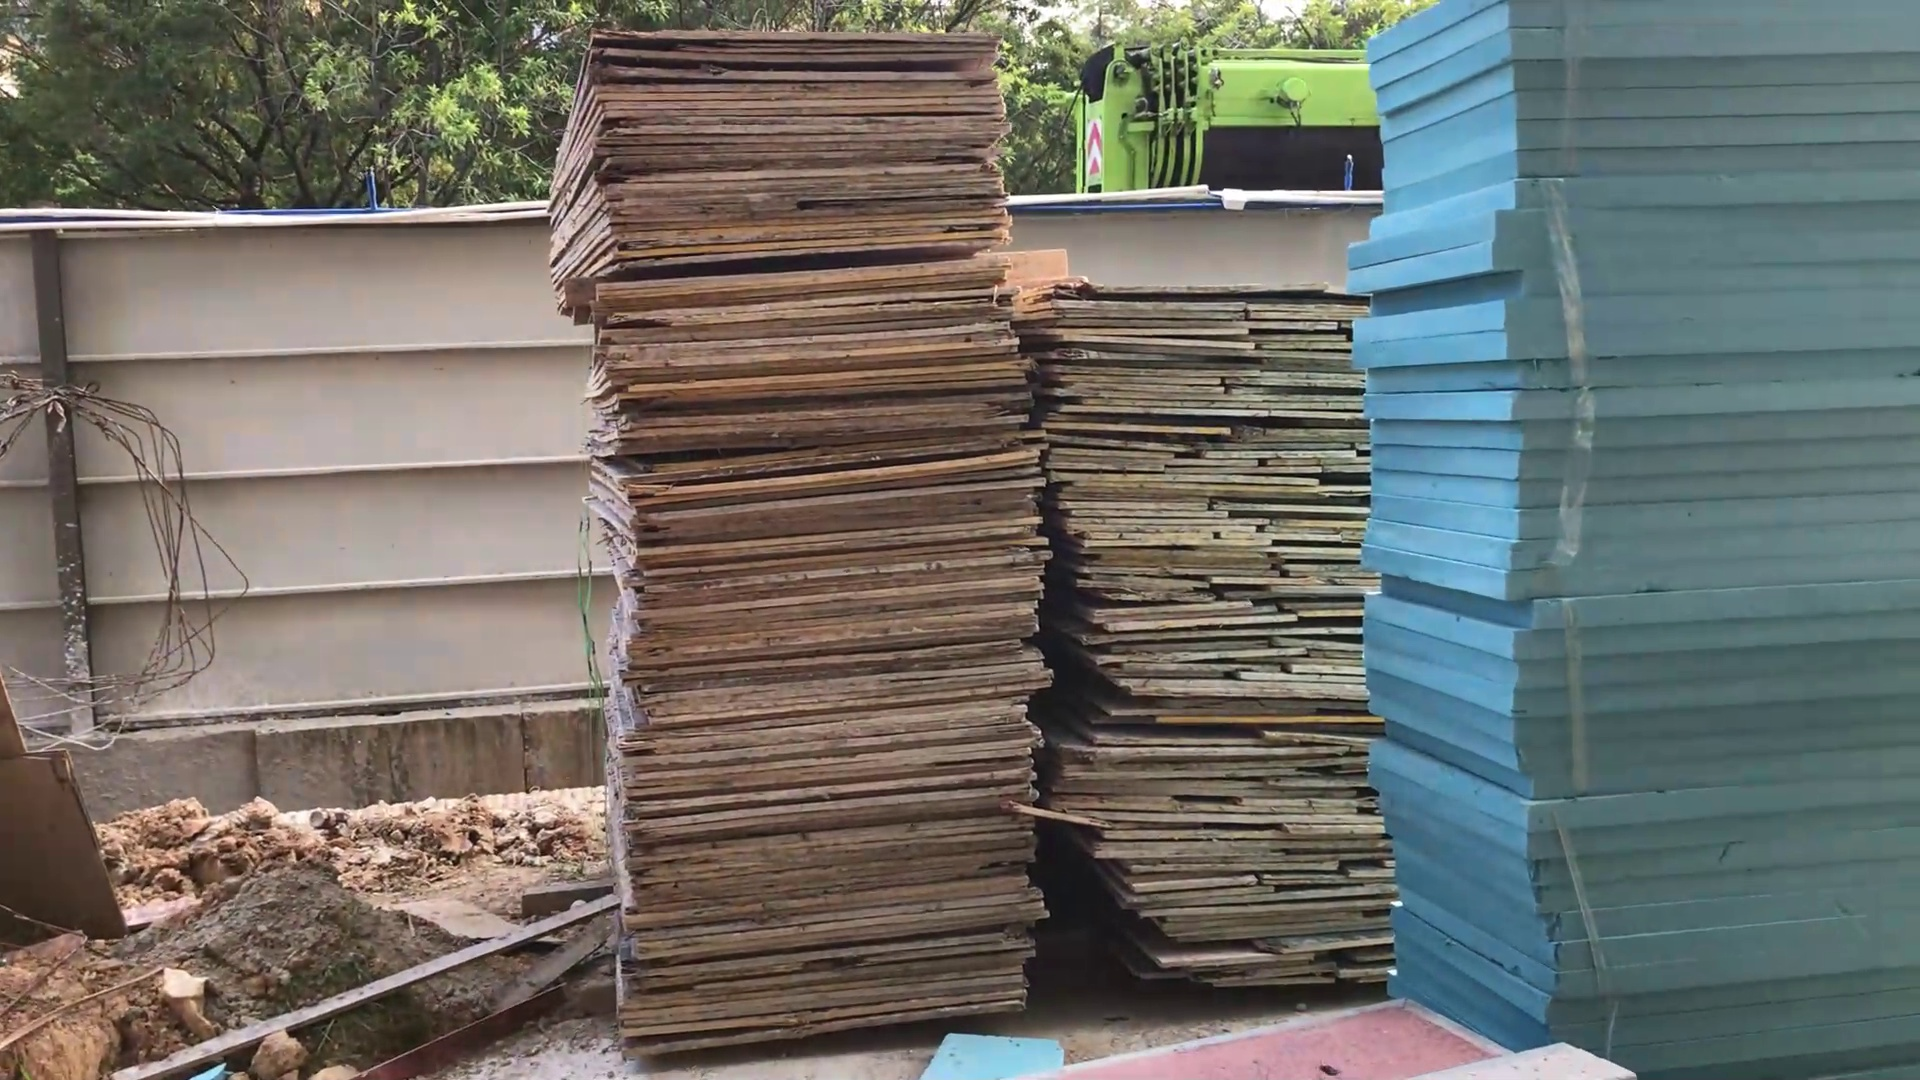board: (551, 32, 1043, 1062), (1011, 280, 1393, 994)
